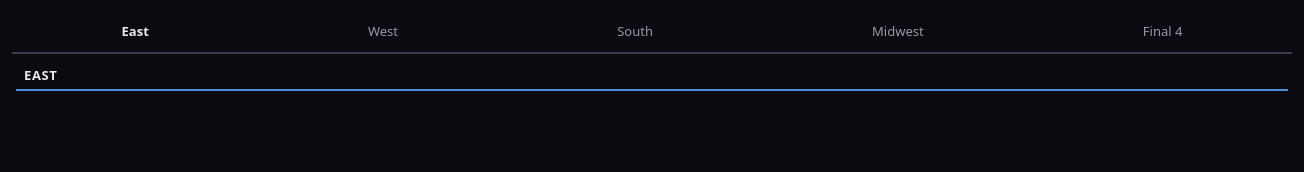
MobileBracketView › switches to Final 4 tab when clicked
Click the tab "Final 4": point(1163, 33) [1033,12,1292,54]
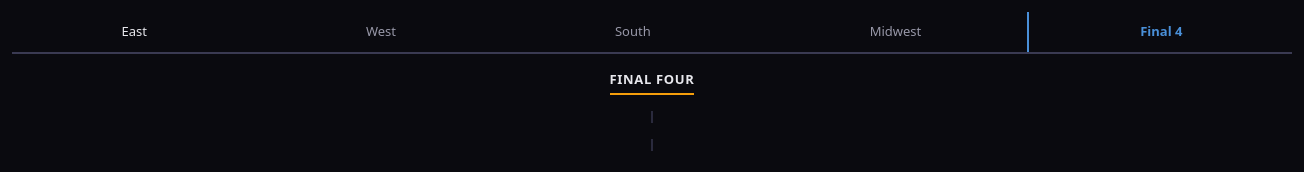
Now the panel named "Final 4 bracket" is shown, box [610,70,694,151]
